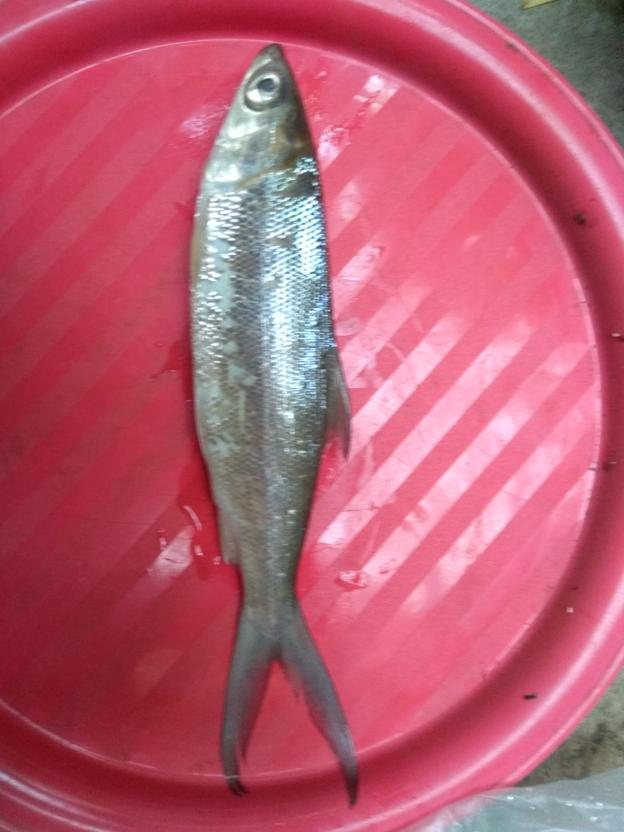Fish head: (199, 41, 315, 189)
Fish tail: (216, 605, 364, 813)
